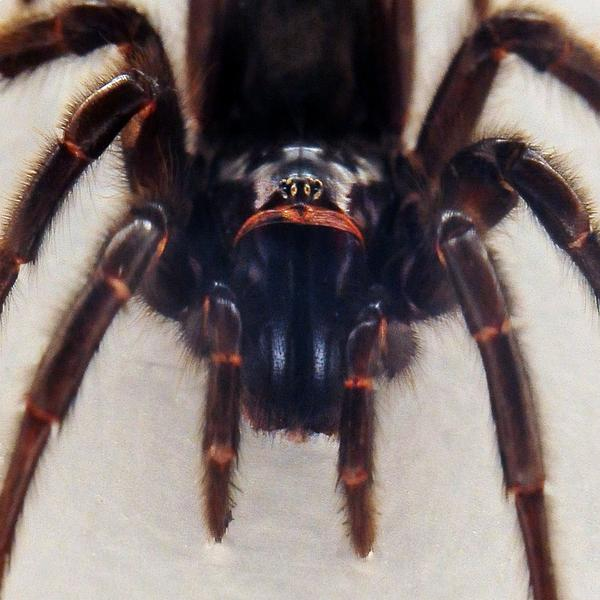Sydney_Funnel_Web_Spider: (7, 5, 597, 598)
